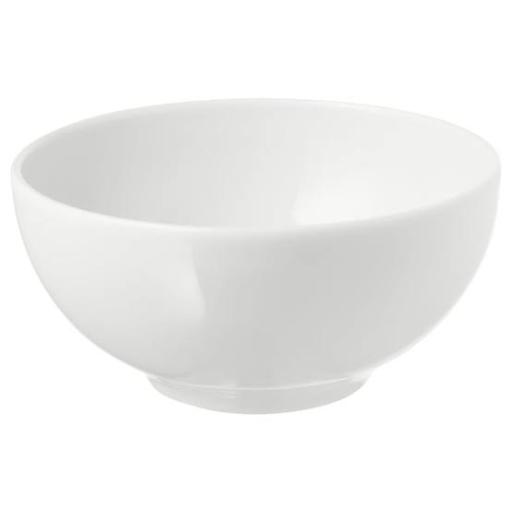Bowl: (12, 100, 499, 413)
